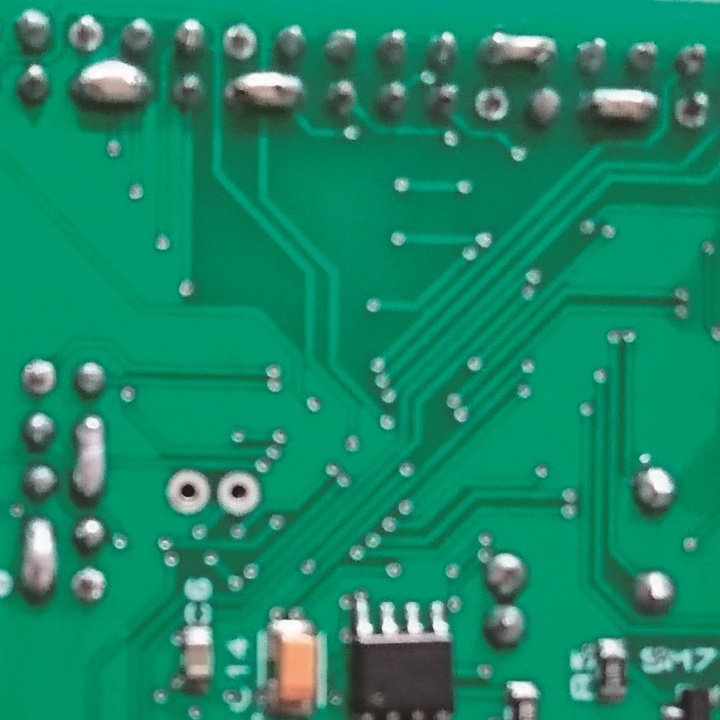F: (213, 467, 258, 520), (163, 468, 210, 516), (672, 88, 713, 132), (473, 81, 513, 126), (68, 563, 107, 606), (21, 355, 59, 399), (64, 14, 105, 52), (223, 18, 259, 60)
P: (224, 66, 308, 119), (73, 60, 153, 112), (579, 83, 665, 129), (476, 27, 559, 74), (68, 412, 110, 499), (21, 511, 59, 602)
